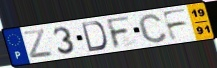3: (52, 25, 76, 55)
C: (136, 12, 169, 44)
D: (81, 20, 109, 53)
F: (160, 7, 190, 42), (105, 15, 133, 50)
Z: (21, 27, 55, 60)
